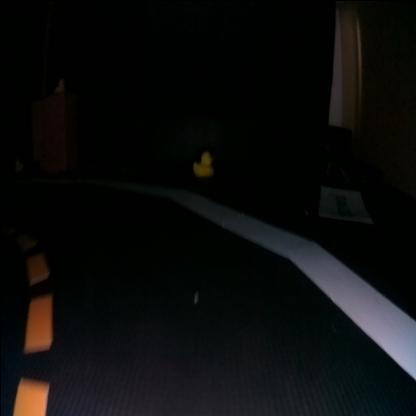Duckie: (192, 151, 212, 176), (14, 160, 20, 170)
